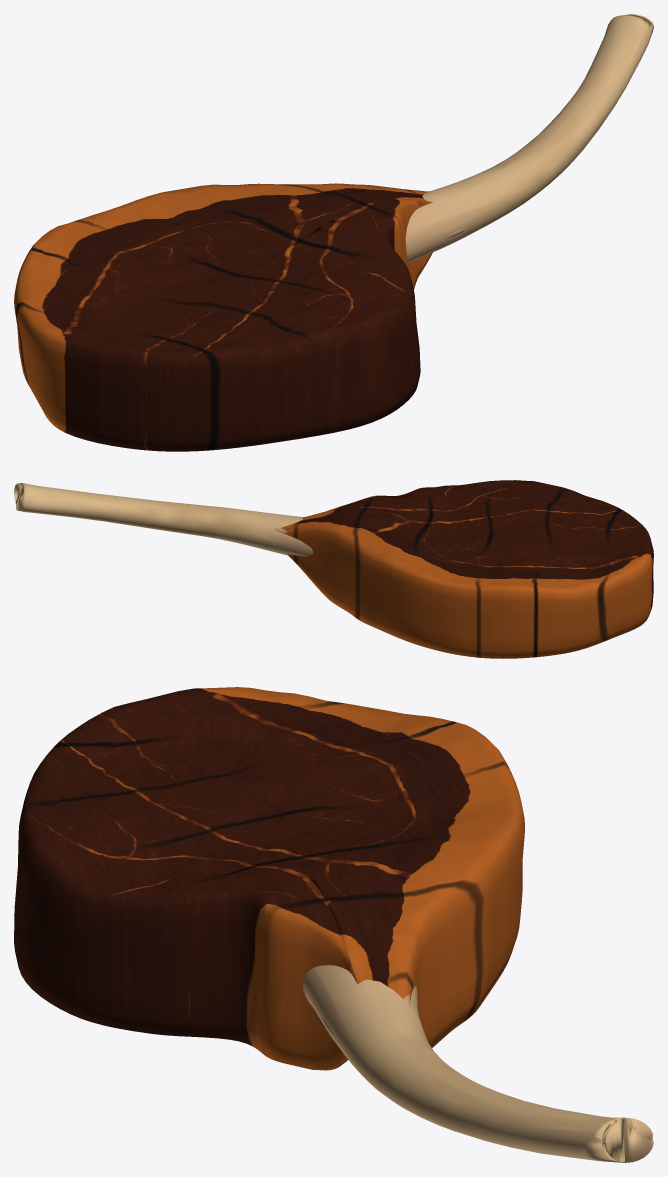
Rendered from grilled.glb.
3 views of the same model, one above another, from view 1: azimuth 30°, elevation 25°; view 2: azimuth 150°, elevation 25°; view 3: azimuth 270°, elevation 25° (orthographic). The views are drawn at different scales.
Parts seen in each view (by area): view 1: grilled; view 2: grilled; view 3: grilled.
Part boxes in pixels (x1,y1,x2,y2): grilled: [14, 14, 653, 451]; grilled: [14, 480, 653, 658]; grilled: [14, 687, 653, 1162].
Size of the model in its own units: 0.147 by 0.0246 by 0.0803.
2 materials, 1 textured.
